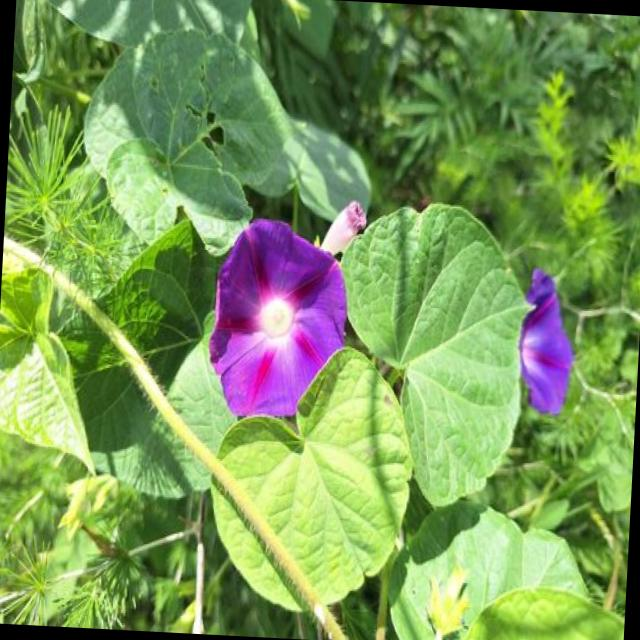ipomoea: (201, 213, 356, 428), (509, 263, 582, 423)
